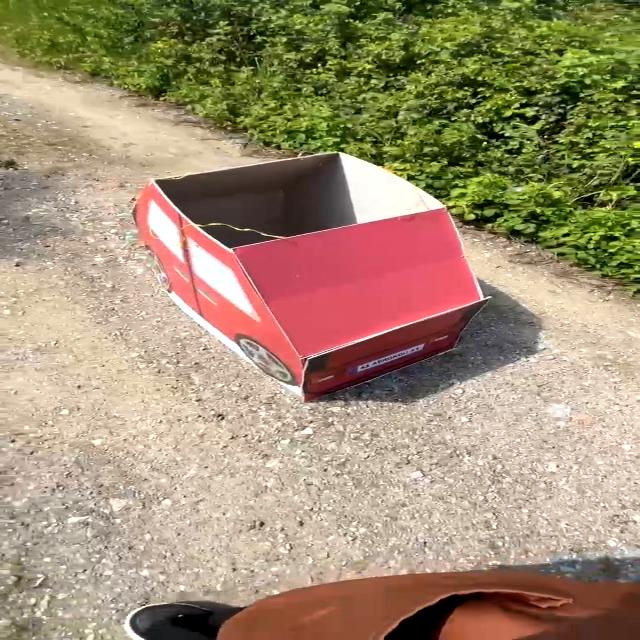red_car: (81, 135, 523, 408)
